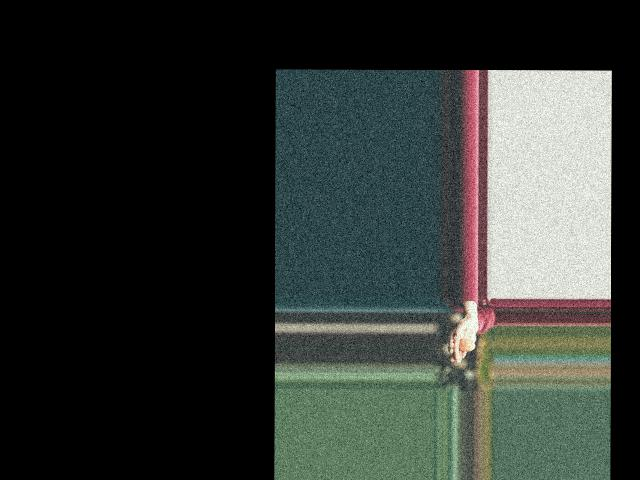egg: (459, 338, 475, 351)
